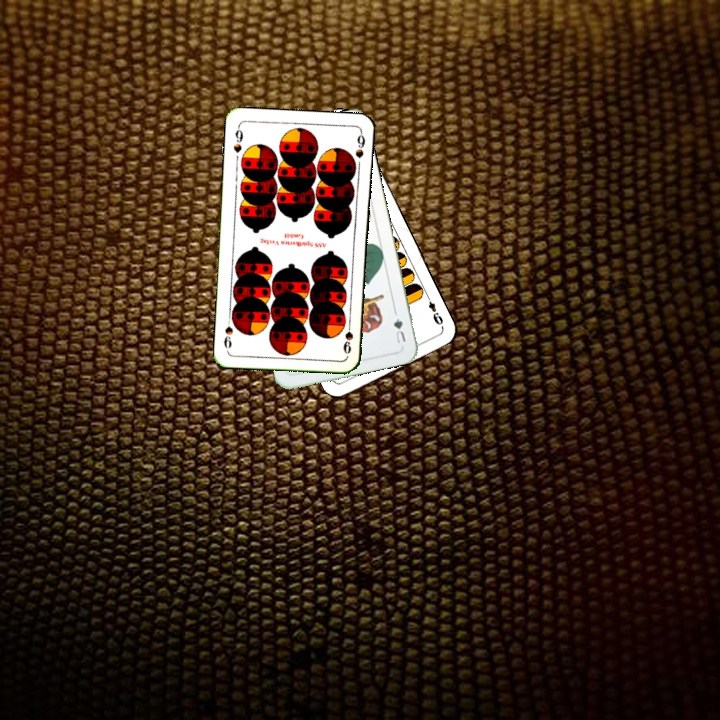E9: (422, 291, 446, 328)
GU: (389, 314, 408, 347)
S9: (339, 317, 356, 357), (230, 122, 246, 155)
